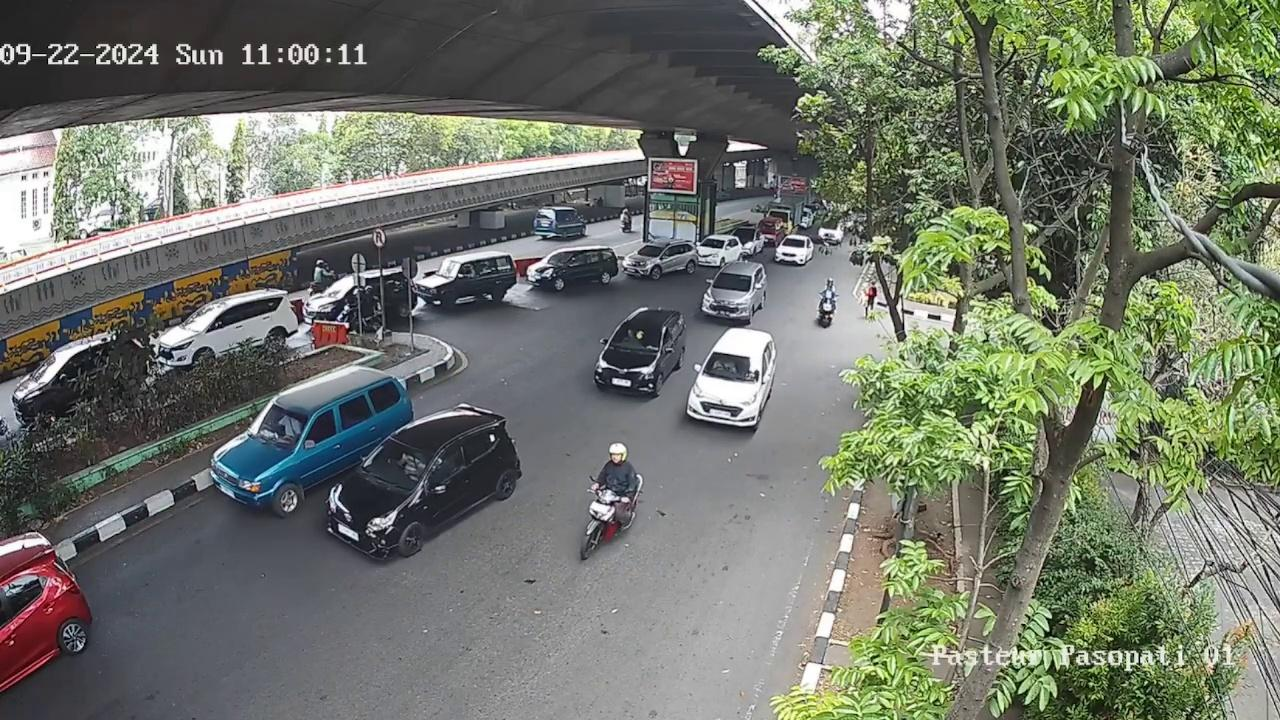pakai: (394, 448, 424, 478), (270, 414, 300, 439), (712, 358, 738, 374)
windshield: (363, 438, 434, 488), (252, 402, 310, 448), (704, 351, 763, 380), (609, 321, 666, 349), (712, 273, 753, 291)
